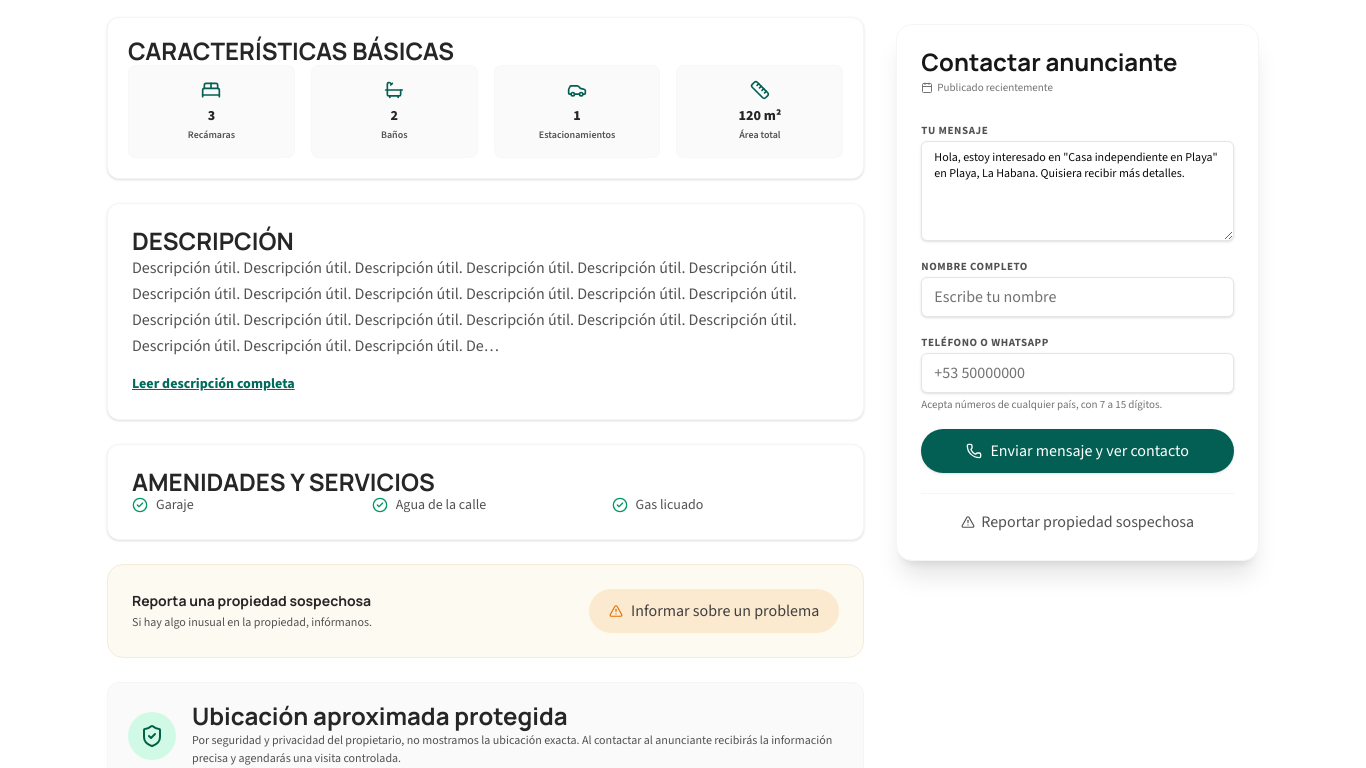
Test case: DetailPage - Reportes y Visor › shows mobile friendly favorite/share actions without personal notes and collapses long descriptions
The width and height of the screenshot is (1366, 768).
(page scrolled)
Click the button "Leer descripción completa": coordinates (213, 384) [132, 374, 295, 394]
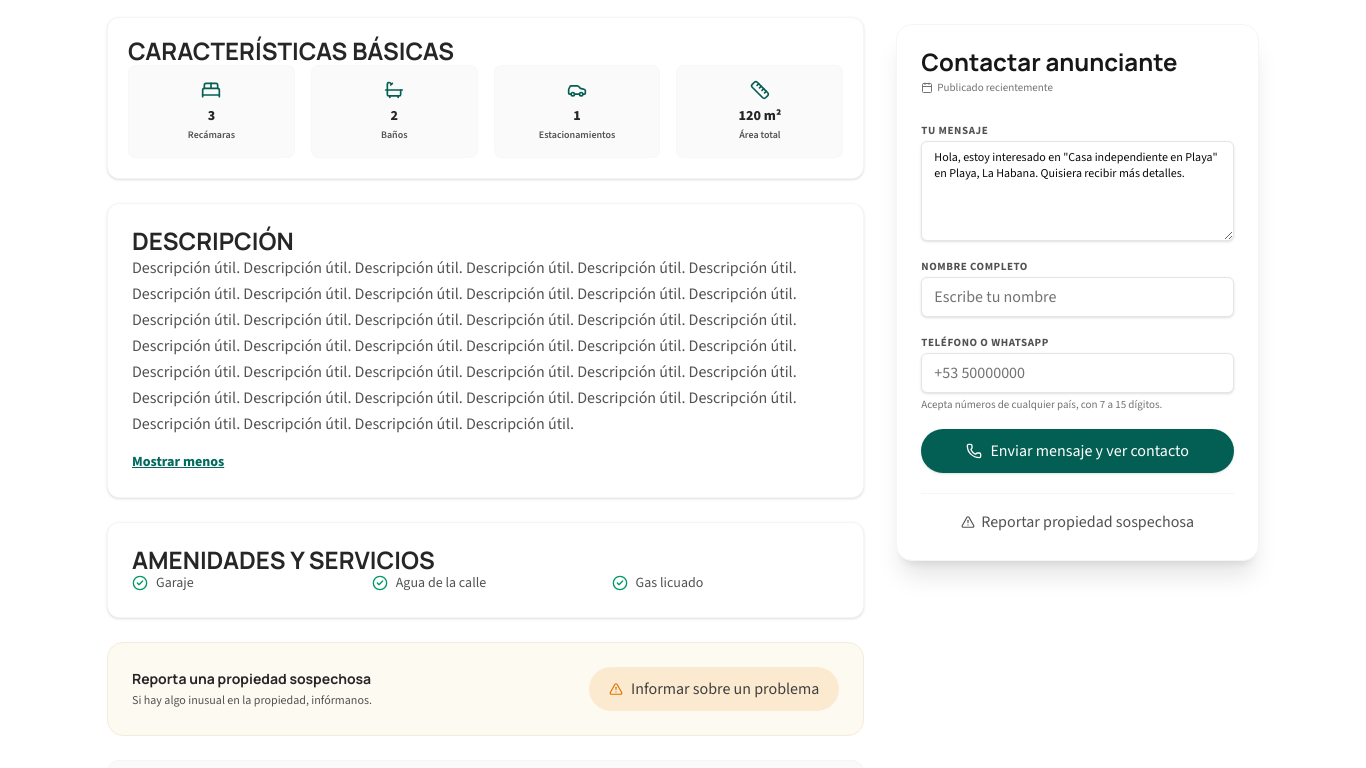
Result: the button "Mostrar menos" is expanded at [132, 452, 224, 472]
